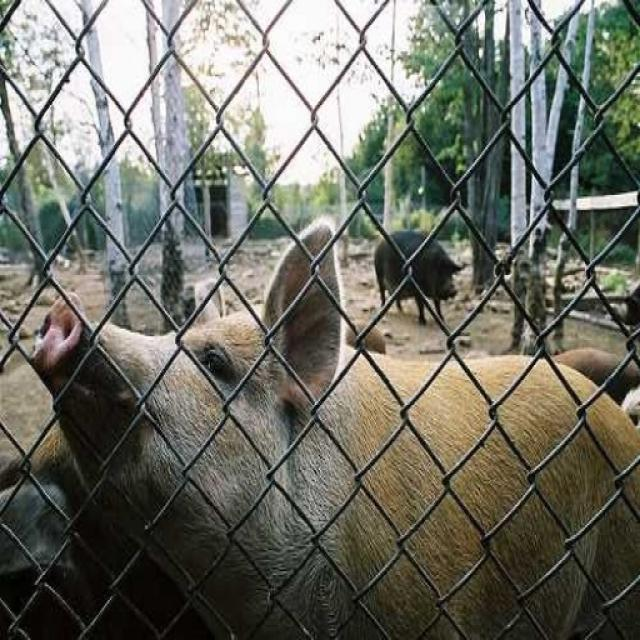pig: (9, 278, 640, 622), (333, 225, 464, 327)
